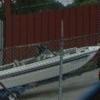Boat: (5, 50, 98, 94)
